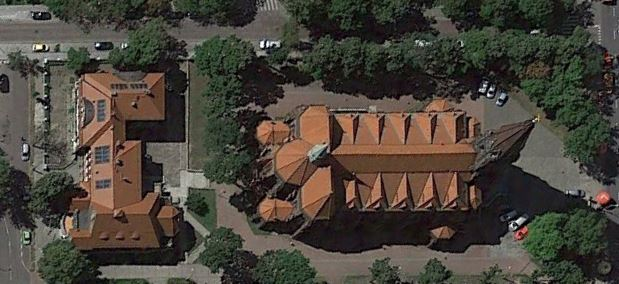block of flats: (58, 69, 185, 258)
church: (243, 92, 545, 252)
